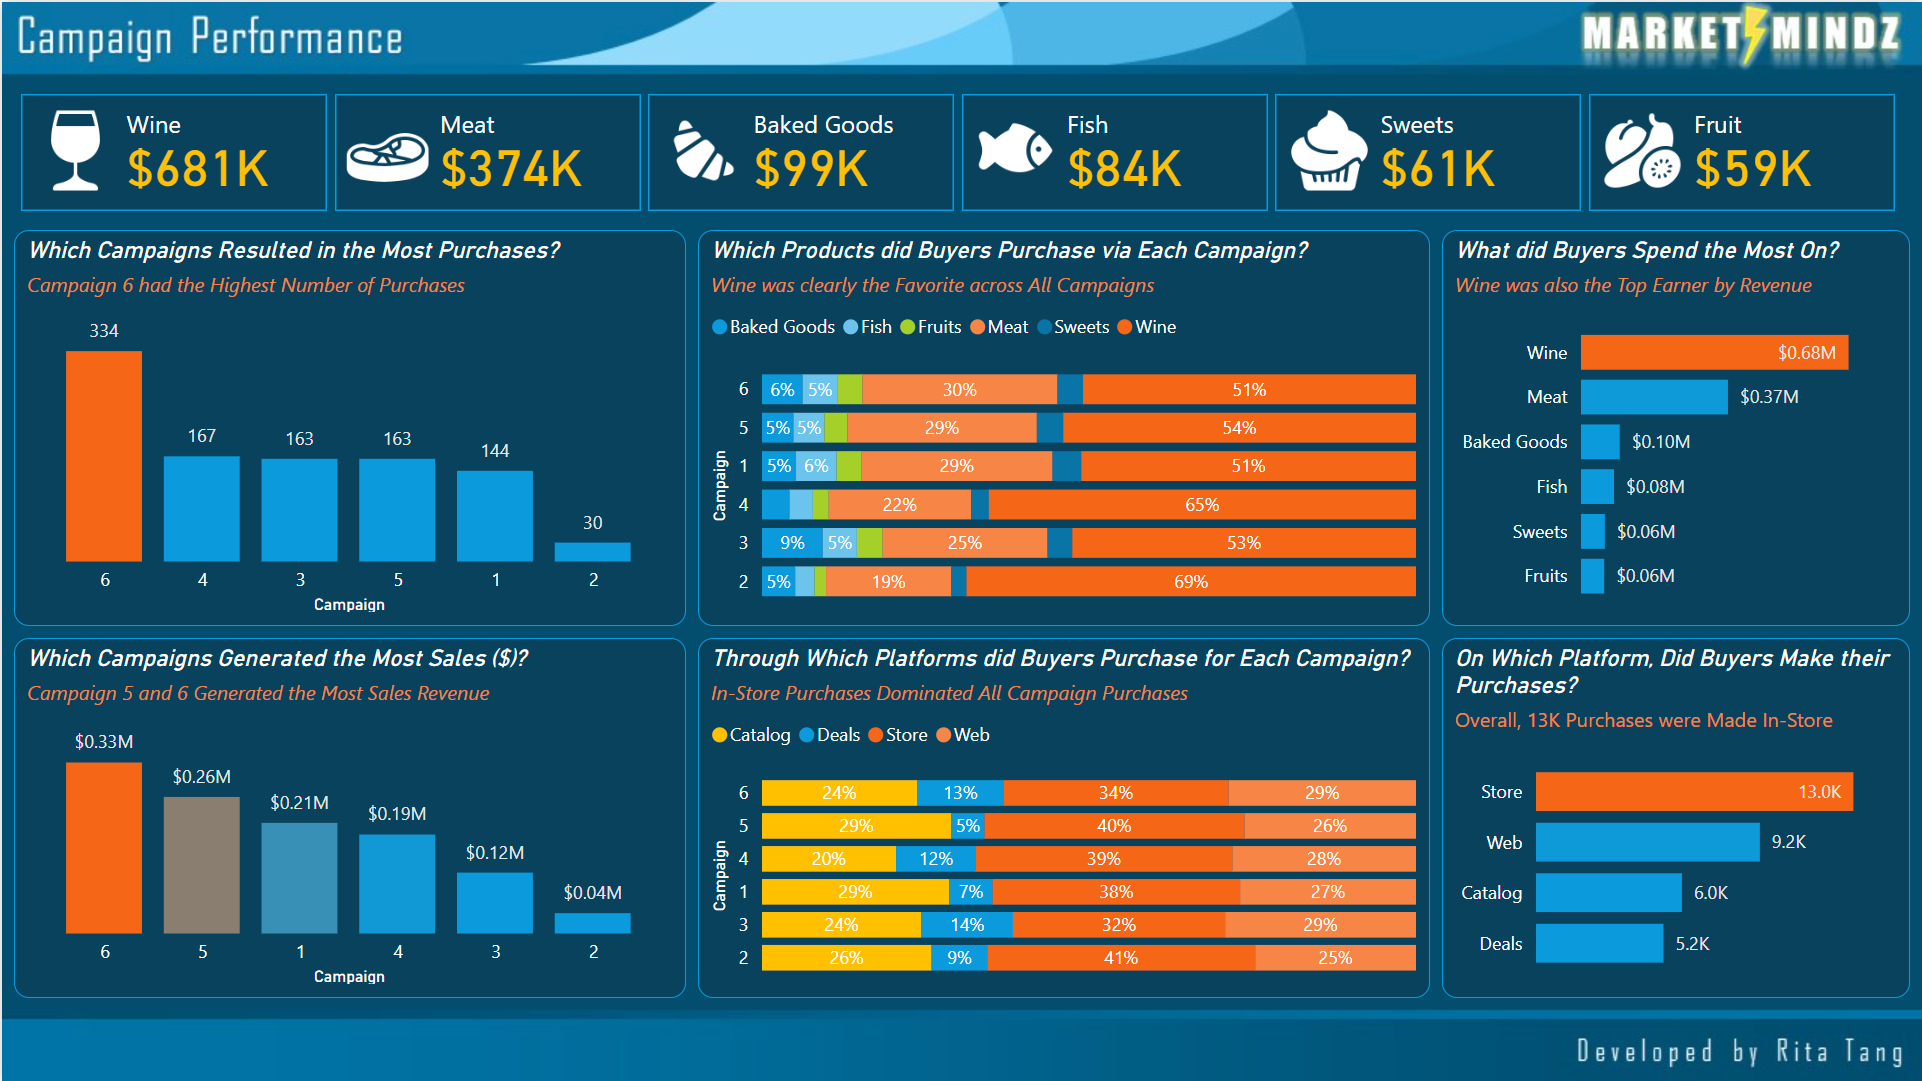

What the dashboard file says about the page in this screenshot:
{"tool":"powerbi","page":{"name":"Campaign Performance","canvas":[1280,720],"ordinal":0},"visuals":[{"type":"clusteredColumnChart","title":"Which Campaigns Resulted in the Most Purchases?","fields":{"Category":["campaign.Campaign"],"Y":["Sum(campaign.Accepted)"]},"box":[8,152,448,264],"z":0},{"type":"clusteredColumnChart","title":"Which Campaigns Generated the Most Sales ($)?","fields":{"Y":["Sum(products.Total Sales)"],"Category":["campaign.Campaign"]},"box":[8,424,448,240],"z":1000},{"type":"hundredPercentStackedBarChart","title":"Which Products did Buyers Purchase via Each Campaign?","fields":{"Y":["Sum(products.Total Sales)"],"Category":["campaign.Campaign"],"Series":["products.Product"]},"box":[464,152,488,264],"z":2000},{"type":"clusteredBarChart","title":"What did Buyers Spend the Most On?","fields":{"Category":["products.Product"],"Y":["Sum(products.Total Sales)"]},"box":[960,152,312,264],"z":3000},{"type":"hundredPercentStackedBarChart","title":"Through Which Platforms did Buyers Purchase for Each Campaign?","fields":{"Y":["Sum(platform.Qty)"],"Category":["campaign.Campaign"],"Series":["platform.Platform"]},"box":[464,423.8,488,240],"z":4000},{"type":"clusteredBarChart","title":"On Which Platform, Did Buyers Make their Purchases?","fields":{"Category":["platform.Platform"],"Y":["Sum(platform.Qty)"]},"box":[960,424,312,240],"z":5000},{"type":"cardVisual","fields":{"Data":["Sum(marketmindz_research_data.Amount_Wine_Products)","Sum(marketmindz_research_data.Amount_Meat_Products)","Sum(marketmindz_research_data.Amount_Baked_Products)","Sum(marketmindz_research_data.Amount_Fish_Products)","Sum(marketmindz_research_data.Amount_Sweet_Products)","Sum(marketmindz_research_data.Amount_Fruit_Products)"]},"box":[8,56,1264,88],"z":6000}]}

Visuals, with their boxes in screenshot pixels (x1, y1, x2, y2), scaled from the page's 1280x720 canvas onto the 1922x1081 screenshot:
"Which Campaigns Resulted in the Most Purchases?" clusteredColumnChart: select_region(12, 228, 685, 625)
"Which Campaigns Generated the Most Sales ($)?" clusteredColumnChart: select_region(12, 637, 685, 997)
"Which Products did Buyers Purchase via Each Campaign?" hundredPercentStackedBarChart: select_region(697, 228, 1429, 625)
"What did Buyers Spend the Most On?" clusteredBarChart: select_region(1442, 228, 1910, 625)
"Through Which Platforms did Buyers Purchase for Each Campaign?" hundredPercentStackedBarChart: select_region(697, 636, 1429, 997)
"On Which Platform, Did Buyers Make their Purchases?" clusteredBarChart: select_region(1442, 637, 1910, 997)
cardVisual - Sum(marketmindz_research_data.Amount_Wine_Products) x Sum(marketmindz_research_data.Amount_Meat_Products): select_region(12, 84, 1910, 216)
